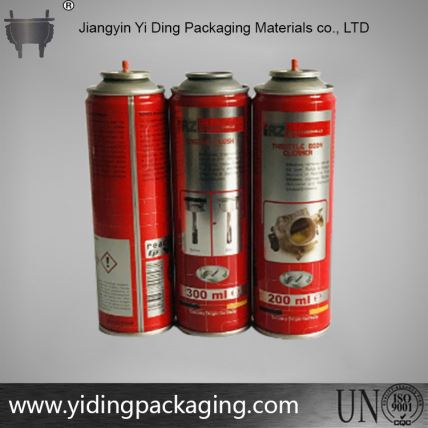Aerosol_cans: (83, 57, 172, 341), (163, 68, 253, 339), (251, 58, 334, 341)
